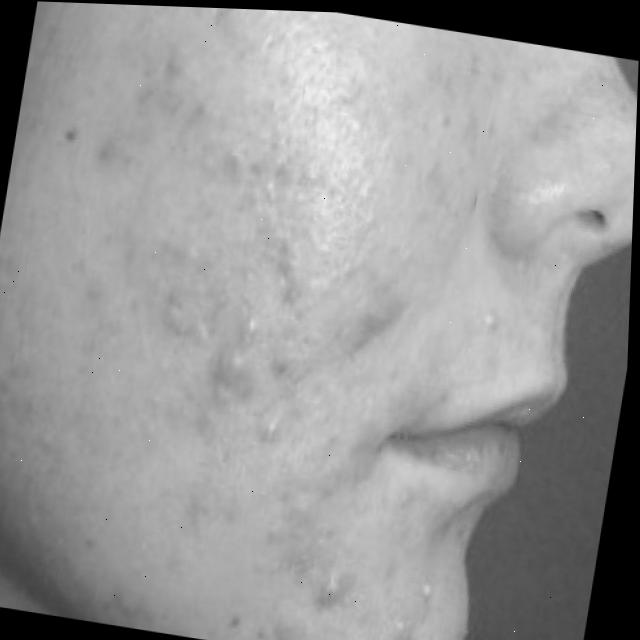Acne: (135, 126, 484, 453), (275, 547, 445, 640)
